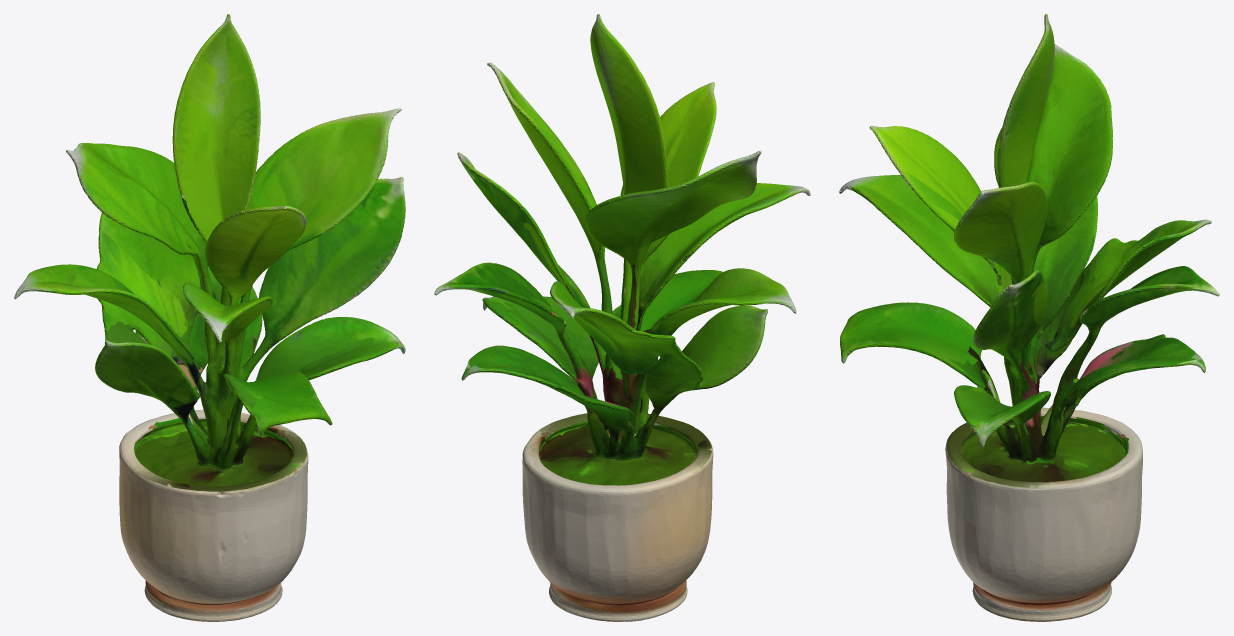
The model's file is biomechanical-growth-planter-generated-2026-04-18T02-10-29-603Z.glb.
The picture shows the model from 3 angles, left to right: view 1: azimuth 30°, elevation 25°; view 2: azimuth 150°, elevation 25°; view 3: azimuth 270°, elevation 25°; orthographic projection. The views are drawn at different scales.
Visible parts, largest first — view 1: temp_mesh.ply; view 2: temp_mesh.ply; view 3: temp_mesh.ply.
Boxes of the visible parts, box(x1,y1,x2,y2) form: temp_mesh.ply: box(14, 14, 405, 621); temp_mesh.ply: box(434, 14, 810, 621); temp_mesh.ply: box(839, 14, 1219, 621).
Bounding box in the file's own units: 1.3 × 1.97 × 1.16.
Materials: 1 (1 with a texture image).
